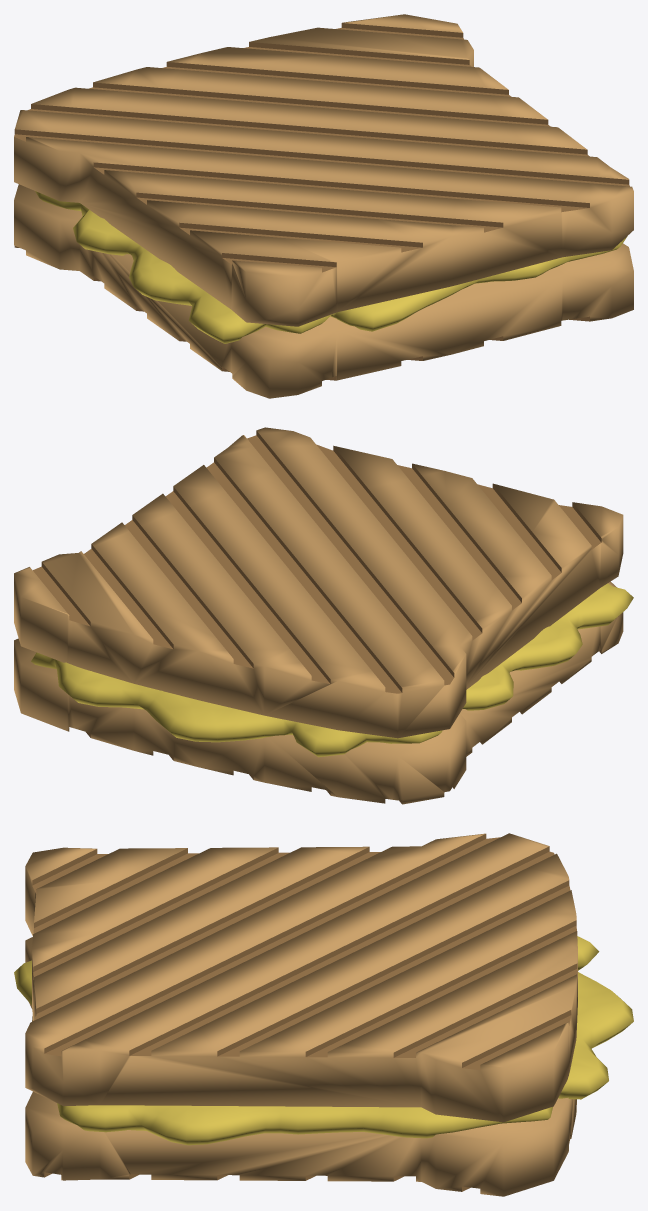
File: grilled-sandwich.glb
3 renders of one model, top to bottom at view 1: azimuth 30°, elevation 25°; view 2: azimuth 150°, elevation 25°; view 3: azimuth 270°, elevation 25°, orthographic. The views are drawn at different scales.
Parts seen in each view (by area): view 1: Plane.000_Plane.003; view 2: Plane.000_Plane.003; view 3: Plane.000_Plane.003.
Part boxes in pixels (x1=…): Plane.000_Plane.003: x1=14, y1=14, x2=633, y2=398; Plane.000_Plane.003: x1=14, y1=427, x2=633, y2=804; Plane.000_Plane.003: x1=14, y1=833, x2=633, y2=1196.
Bounding box in the file's own units: 6.82 × 1.7 × 7.41.
